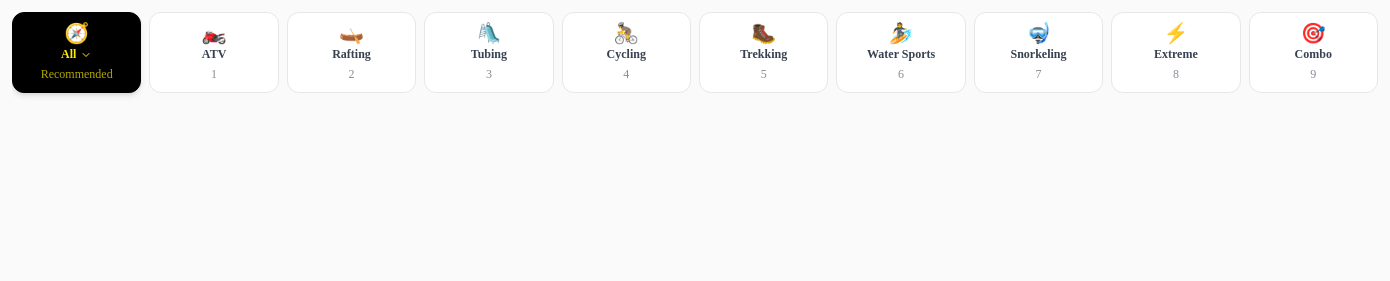
Scenario: CategoryTiles › closes the menu on Escape
Click the button "🧭 All Recommended". click: coordinates (77, 52)
box: [12,12,141,93]
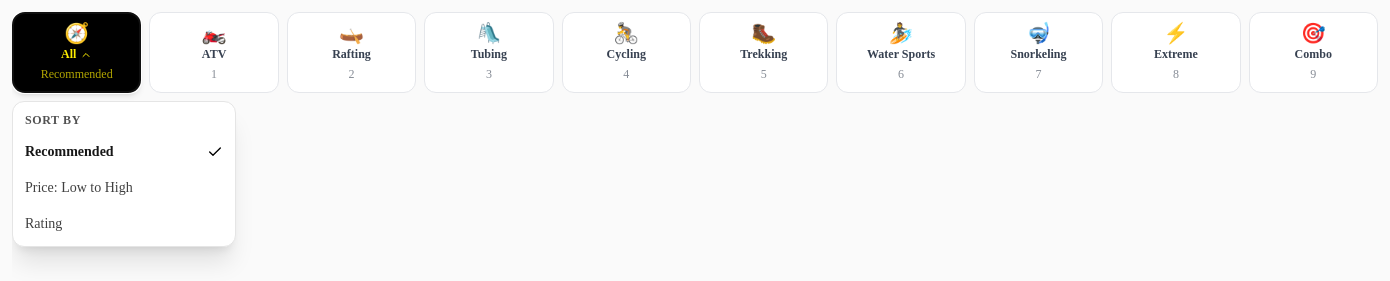
Press Escape
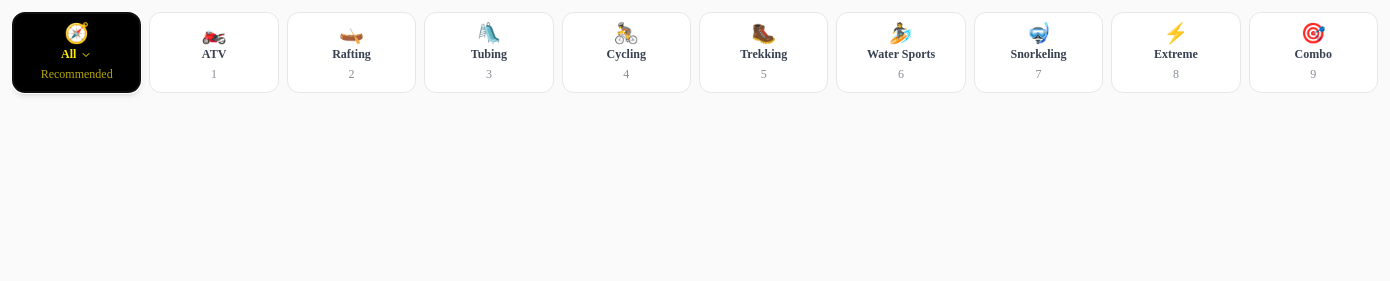
Check: the menu is gone
